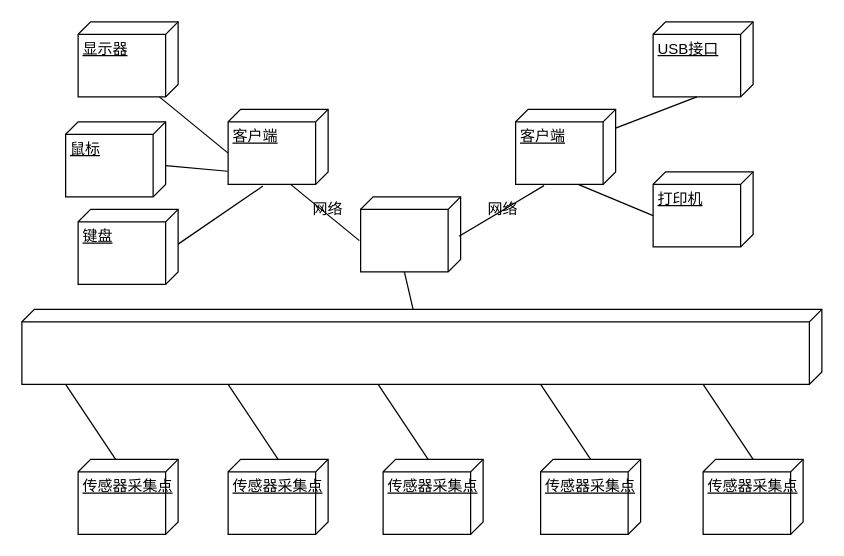
Some shapes in this 844 by 556 pixel diagram are drawn without their labels. The centre of each missing label's shape, as x and y in pixels:
局域网: the point at 421,346
服务器: the point at 410,234
